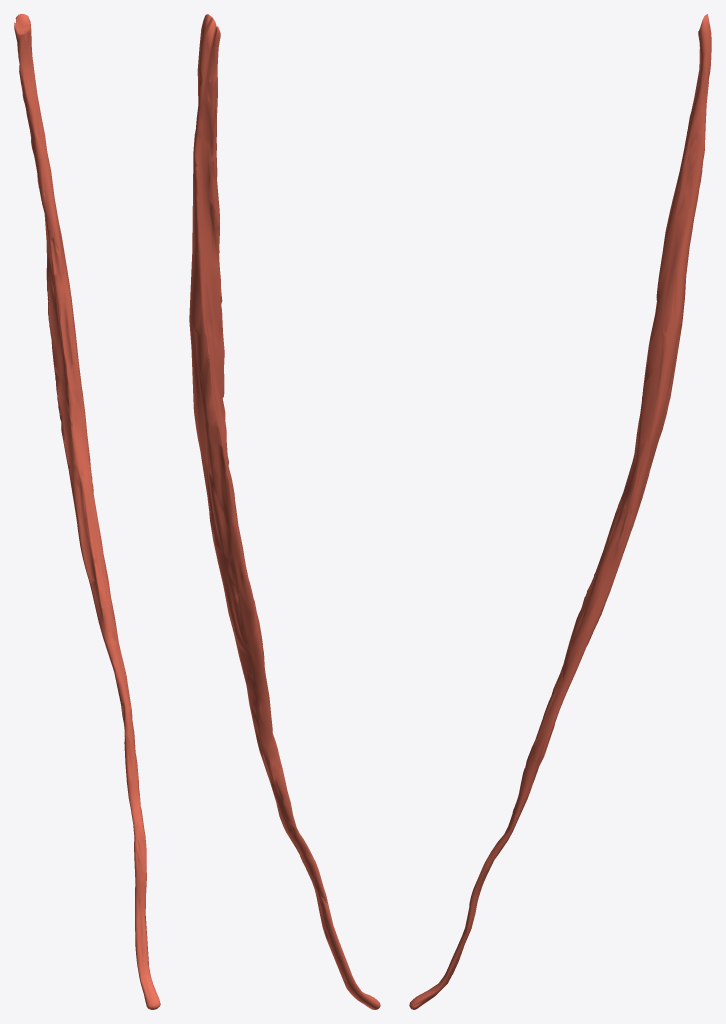
Rendered from extensor-digiti-minimi.glb.
3 renders of one model, left to right at view 1: azimuth 30°, elevation 25°; view 2: azimuth 150°, elevation 25°; view 3: azimuth 270°, elevation 25°, orthographic. The views are drawn at different scales.
Visible parts, largest first — view 1: Extensor digiti minimi.l; view 2: Extensor digiti minimi.l; view 3: Extensor digiti minimi.l.
Boxes of the visible parts, box(x1,y1,x2,y2) form: Extensor digiti minimi.l: box(14, 14, 160, 1009); Extensor digiti minimi.l: box(189, 14, 380, 1009); Extensor digiti minimi.l: box(409, 14, 711, 1009).
Bounding box in the file's own units: 0.0168 × 0.3359 × 0.0925.
